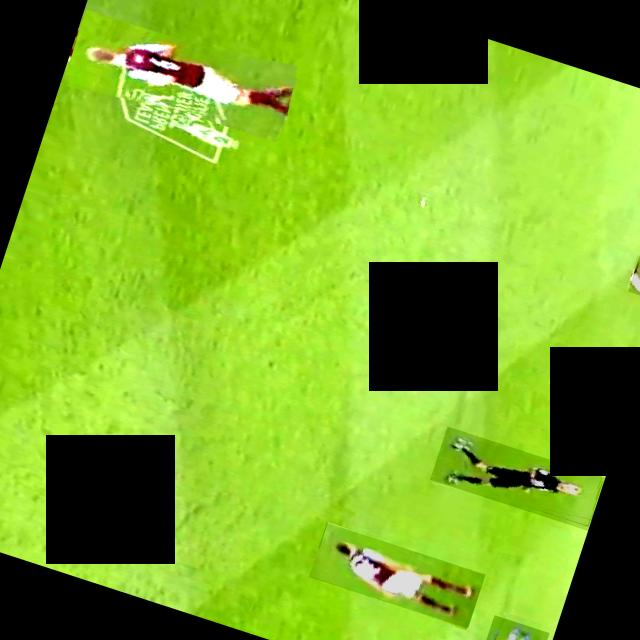referee: (430, 426, 606, 530)
soccer-player: (63, 3, 301, 148), (310, 522, 486, 628), (476, 614, 549, 640), (606, 357, 640, 409), (628, 254, 640, 302)
